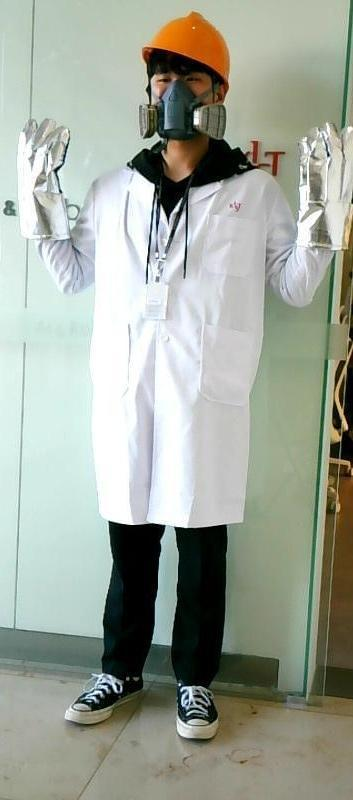lab_coat: (82, 174, 282, 521)
